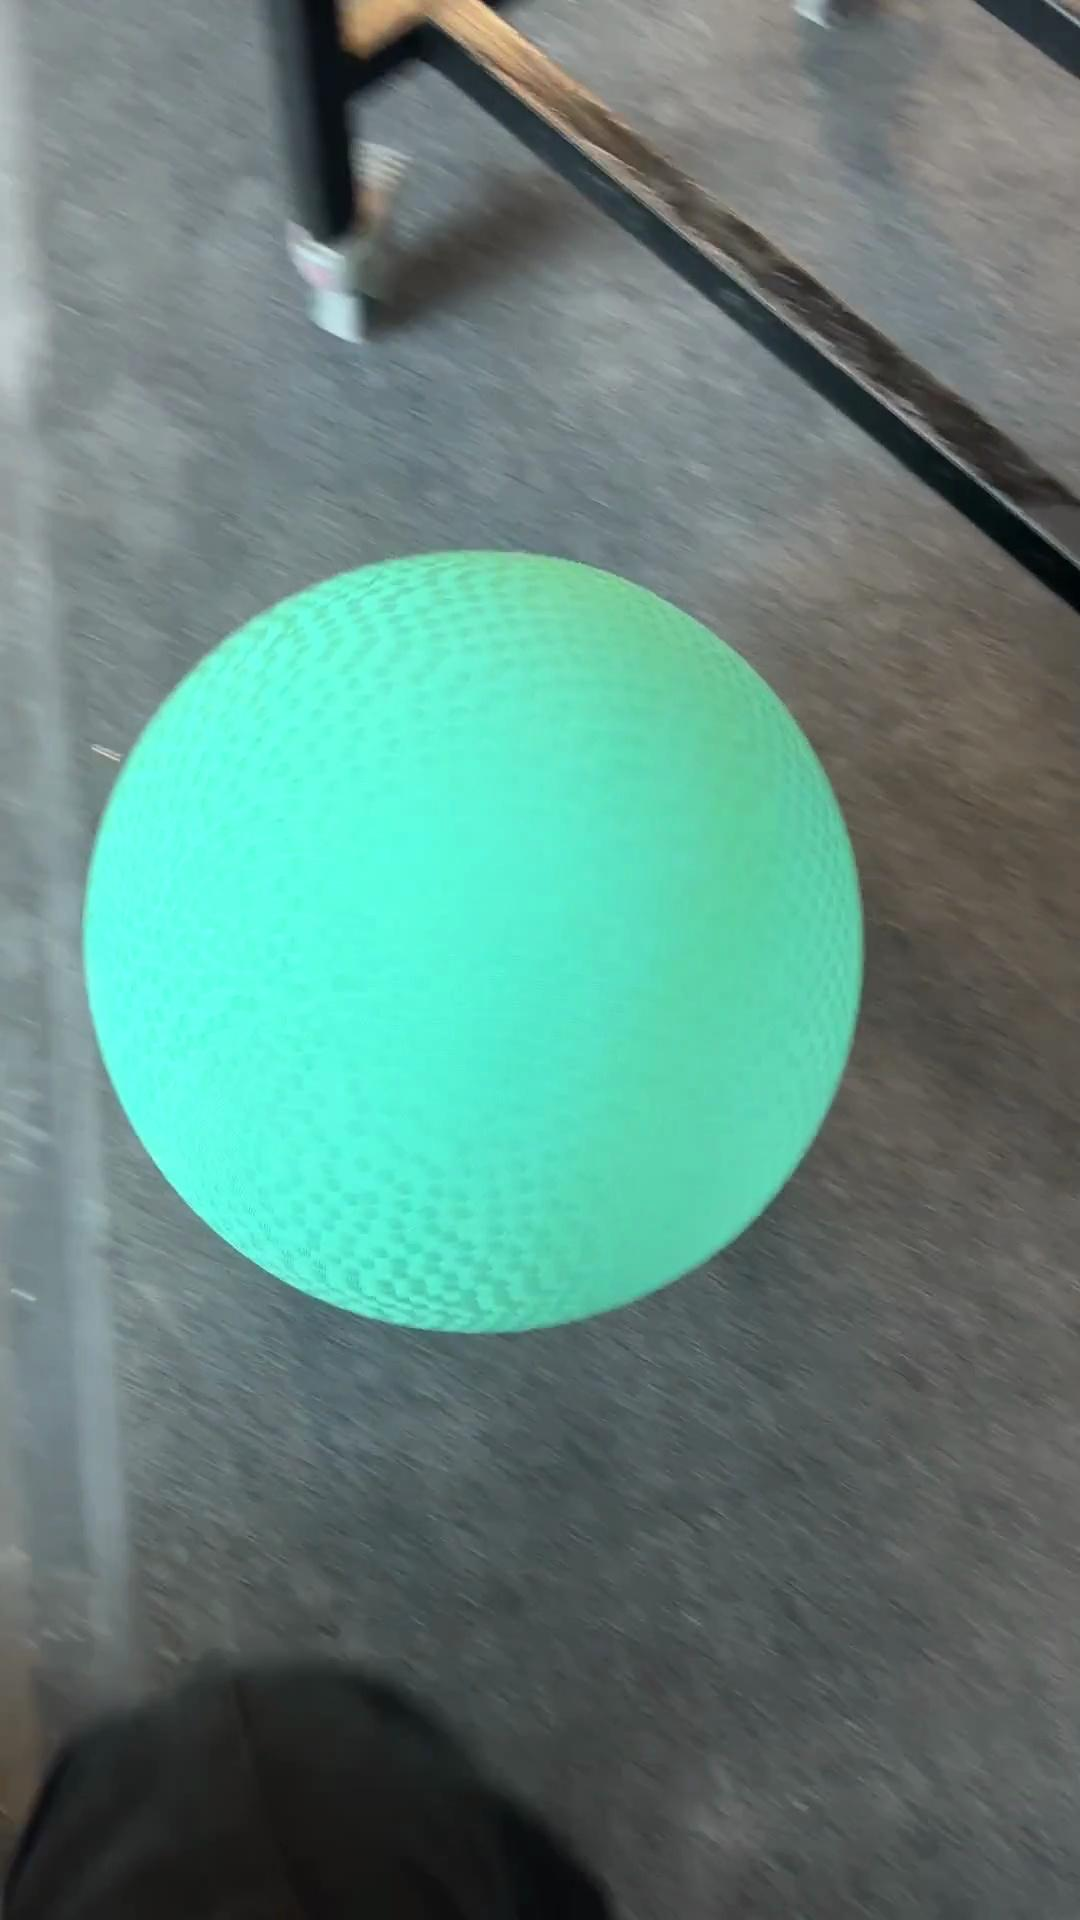ALGAE: (79, 545, 866, 1337)
